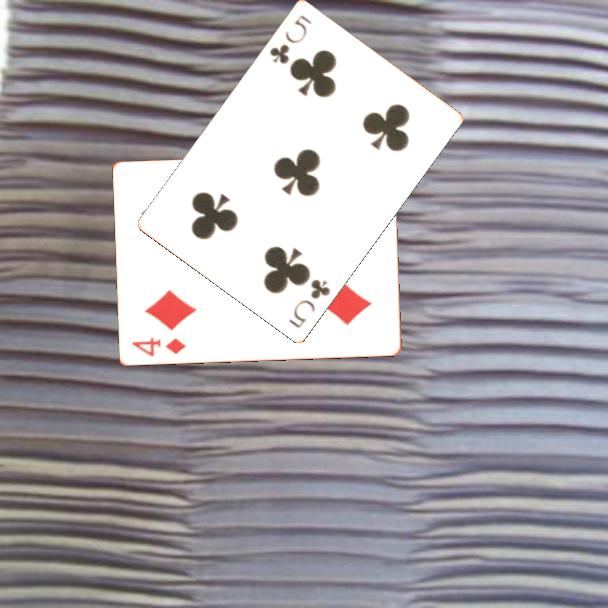c05: (266, 11, 315, 67), (285, 275, 333, 331)
d04: (129, 334, 189, 359)
